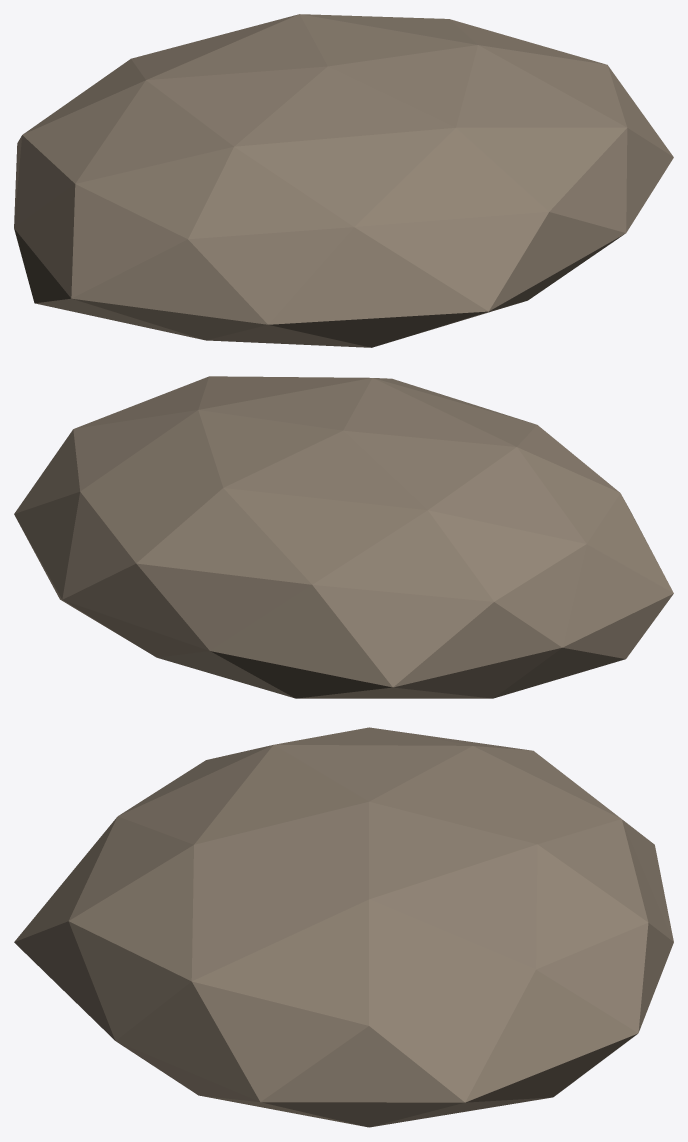
Rendered from snake_rock.glb.
3 views of the same model, one above another, from view 1: azimuth 30°, elevation 25°; view 2: azimuth 150°, elevation 25°; view 3: azimuth 270°, elevation 25° (orthographic). The views are drawn at different scales.
Visible parts, largest first — view 1: snake_rock; view 2: snake_rock; view 3: snake_rock.
Boxes of the visible parts, x1,y1,x2,y2 form: snake_rock: (14,14,673,347); snake_rock: (14,376,673,698); snake_rock: (14,727,673,1127).
Size of the model in its own units: 0.7364 by 0.25 by 0.6383.
